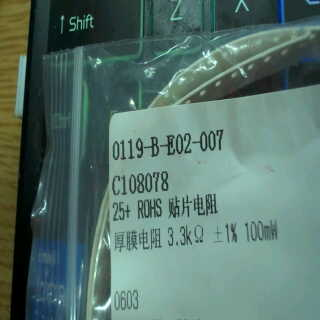3.3kO: (162, 222, 209, 252)
